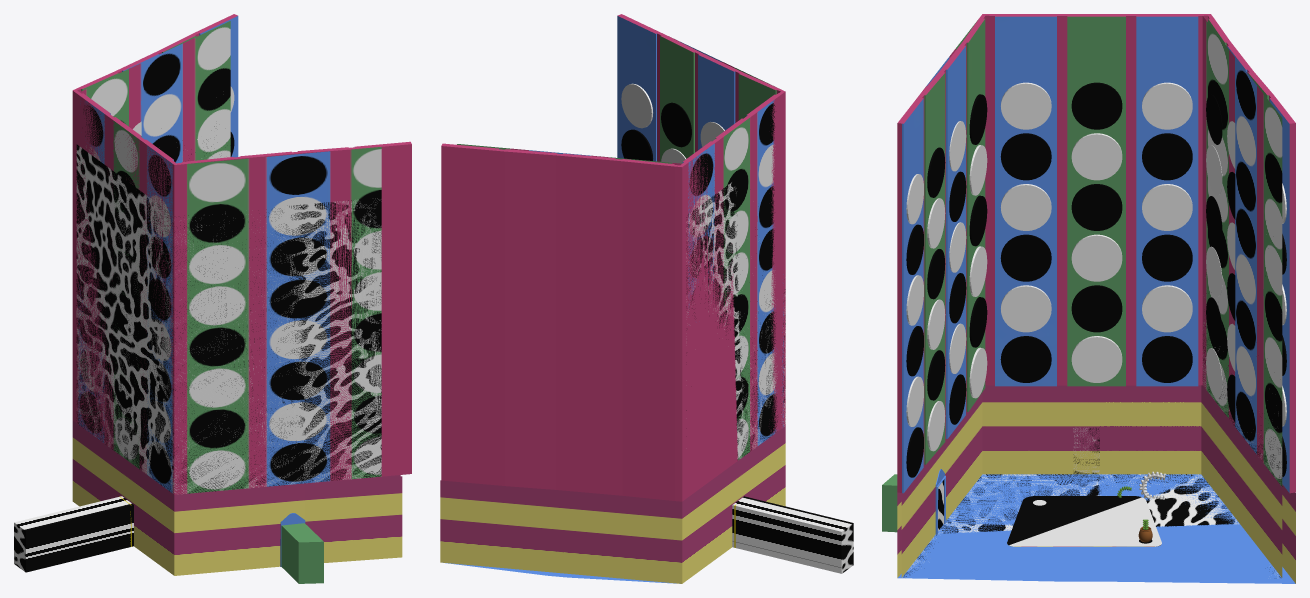
File: wreathroom.fbx
3 views of the same model, side by side, from view 1: azimuth 30°, elevation 25°; view 2: azimuth 150°, elevation 25°; view 3: azimuth 270°, elevation 25° (orthographic). The views are drawn at different scales.
Parts seen in each view (by area): view 1: wreathwalls_1, wreathwall_cow, wreathwalls_2.001, wreathwalls_2, corridor_to_monolith; view 2: wreathwalls_2.001, wreathwalls_1, wreathwalls_2, corridor_to_monolith, wreathwall_cow, weathfloor; view 3: wreathwalls_2.001, wreathwalls_1, weathfloor, carpet, wreathwall_cow, wreathwalls_2.
Part boxes in pixels (x1,y1,x2,y2): wreathwalls_1: (76, 21, 400, 583); wreathwall_cow: (76, 126, 381, 493); wreathwalls_2.001: (72, 14, 411, 494); wreathwalls_2: (72, 421, 402, 583); corridor_to_monolith: (14, 496, 133, 572); wreathwalls_2.001: (441, 14, 785, 501); wreathwalls_1: (457, 36, 785, 552); wreathwalls_2: (440, 466, 732, 583); corridor_to_monolith: (732, 496, 853, 573); wreathwall_cow: (686, 180, 785, 459); weathfloor: (443, 562, 679, 583); wreathwalls_2.001: (897, 14, 1295, 493); wreathwalls_1: (886, 16, 1282, 578); weathfloor: (898, 474, 1295, 583); carpet: (1007, 496, 1161, 546); wreathwall_cow: (903, 234, 1282, 577); wreathwalls_2: (882, 385, 1295, 583).
Size of the model in its own units: 3188 by 4103 by 3301.
